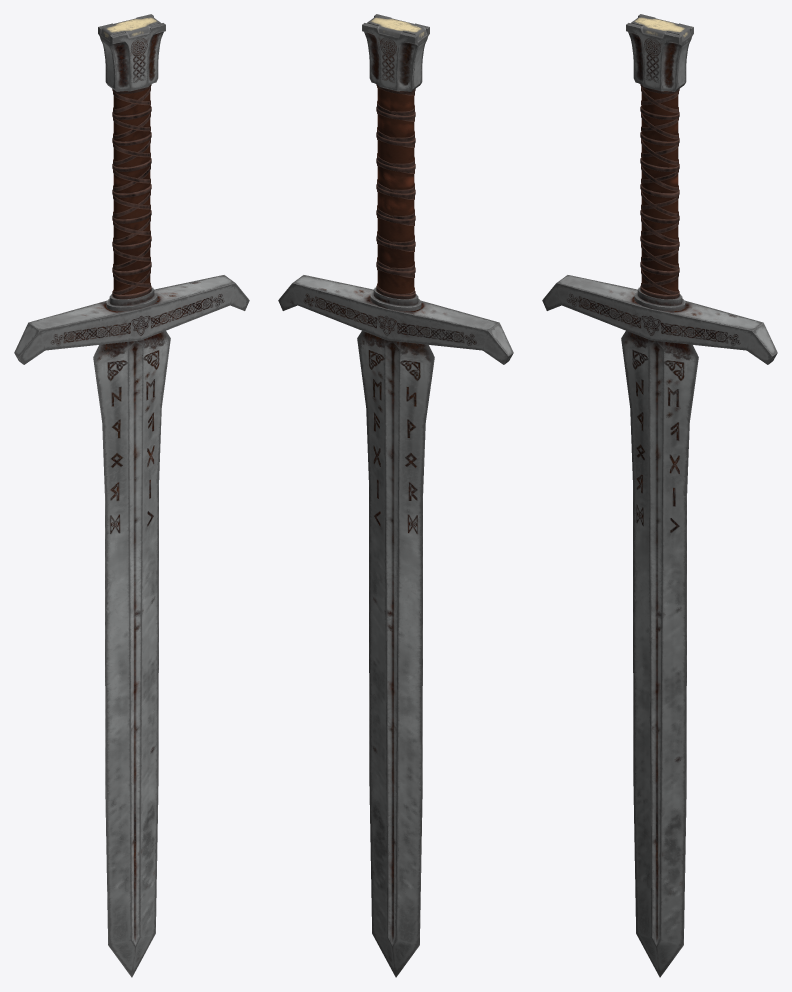
3 views of the same model, side by side, from view 1: azimuth 30°, elevation 25°; view 2: azimuth 150°, elevation 25°; view 3: azimuth 330°, elevation 25° (orthographic).
Visible parts, largest first — view 1: Blade_Low, SwordPart1_Low, HandlePart1_Low, HandlePart3_Low, RopePart3_Low, RopePart2_Low, RopePart1_Low, HandlePart4_Low, HandlePart2_Low; view 2: Blade_Low, SwordPart1_Low, HandlePart1_Low, HandlePart3_Low, RopePart3_Low, RopePart2_Low, RopePart1_Low, HandlePart4_Low, HandlePart2_Low; view 3: Blade_Low, SwordPart1_Low, HandlePart1_Low, HandlePart3_Low, RopePart3_Low, RopePart2_Low, RopePart1_Low, HandlePart4_Low, HandlePart2_Low.
Boxes of the visible parts, box(x1,y1,x2,y2) form: Blade_Low: box(93, 331, 170, 977); SwordPart1_Low: box(14, 275, 249, 364); HandlePart1_Low: box(113, 88, 150, 294); HandlePart3_Low: box(98, 14, 165, 91); RopePart3_Low: box(112, 84, 151, 299); RopePart2_Low: box(113, 92, 150, 287); RopePart1_Low: box(113, 87, 150, 294); HandlePart4_Low: box(100, 16, 160, 41); HandlePart2_Low: box(106, 287, 157, 311); Blade_Low: box(357, 331, 434, 977); SwordPart1_Low: box(278, 275, 513, 364); HandlePart1_Low: box(377, 88, 414, 293); HandlePart3_Low: box(362, 14, 429, 91); RopePart3_Low: box(376, 84, 415, 299); RopePart2_Low: box(377, 92, 414, 292); RopePart1_Low: box(377, 87, 414, 294); HandlePart4_Low: box(367, 16, 427, 41); HandlePart2_Low: box(370, 287, 421, 311); Blade_Low: box(621, 331, 698, 977); SwordPart1_Low: box(542, 275, 777, 364); HandlePart1_Low: box(641, 88, 678, 294); HandlePart3_Low: box(626, 14, 693, 91); RopePart3_Low: box(640, 84, 679, 299); RopePart2_Low: box(641, 87, 678, 294); RopePart1_Low: box(641, 92, 678, 287); HandlePart4_Low: box(631, 16, 691, 41); HandlePart2_Low: box(634, 287, 685, 311).
Bounding box in the file's own units: 1.43 × 5.66 × 0.1972.
Materials: 1 (1 with a texture image).
